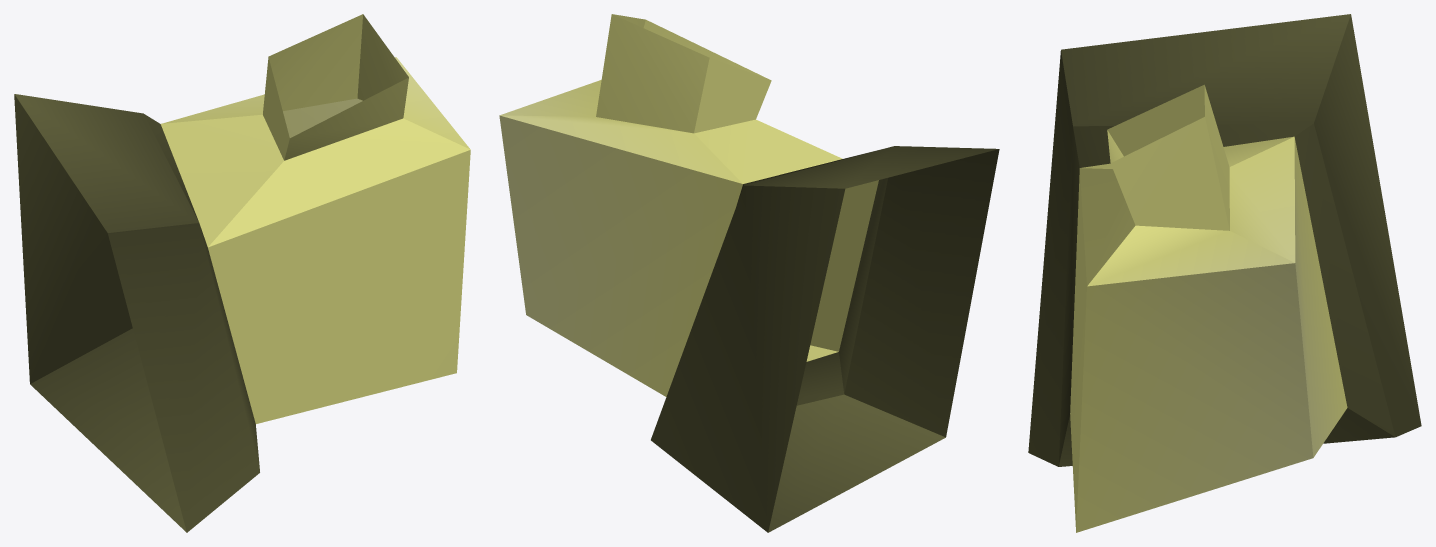
Rendered from c_tower_attachment_ac.fbx.
3 views of the same model, side by side, from view 1: azimuth 30°, elevation 25°; view 2: azimuth 150°, elevation 25°; view 3: azimuth 270°, elevation 25° (orthographic). The views are drawn at different scales.
Visible parts, largest first — view 1: c_tower_attachment_ac; view 2: c_tower_attachment_ac; view 3: c_tower_attachment_ac.
Part boxes in pixels (box(x1,y1,x2,y2)): c_tower_attachment_ac: box(14, 14, 470, 532); c_tower_attachment_ac: box(499, 14, 999, 532); c_tower_attachment_ac: box(1028, 14, 1421, 532).
Bounding box in the file's own units: 4.66 × 4.64 × 3.44.
